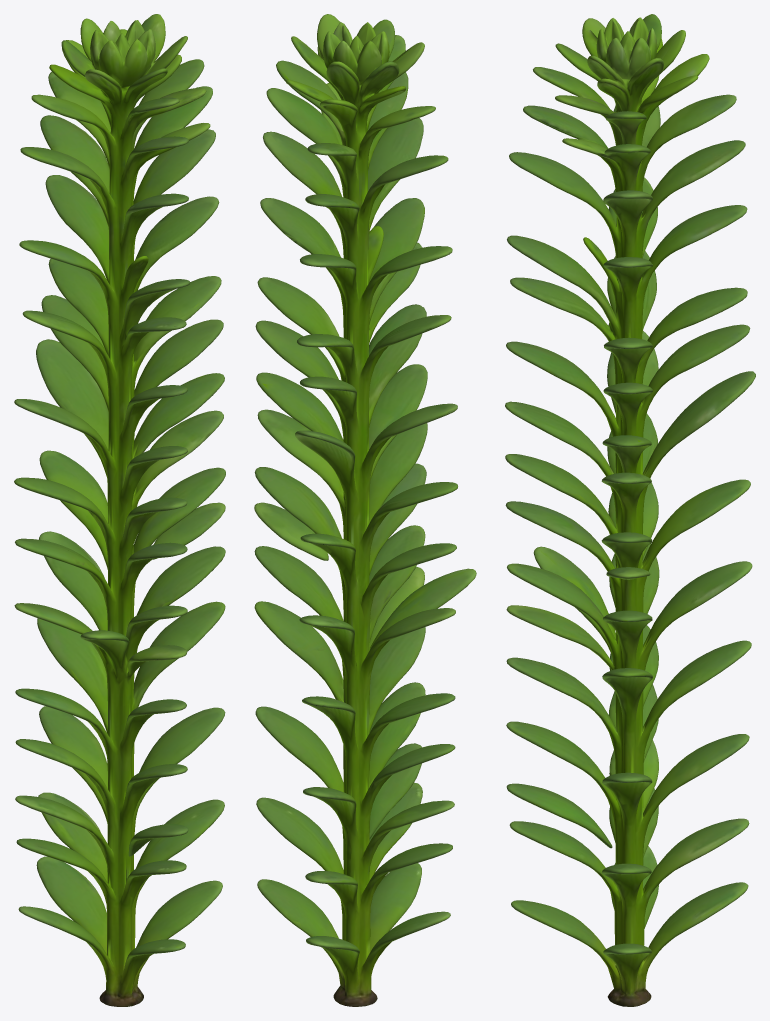
The model's file is elodea.glb.
3 views of the same model, side by side, from view 1: azimuth 30°, elevation 25°; view 2: azimuth 150°, elevation 25°; view 3: azimuth 270°, elevation 25° (orthographic).
Parts seen in each view (by area): view 1: node_0; view 2: node_0; view 3: node_0.
Boxes of the visible parts, x1=… form: node_0: x1=14, y1=14, x2=225, y2=1006; node_0: x1=254, y1=14, x2=476, y2=1006; node_0: x1=505, y1=14, x2=755, y2=1006.
Bounding box in the file's own units: 0.2655 × 1.2 × 0.2807.
1 material, 1 textured.
